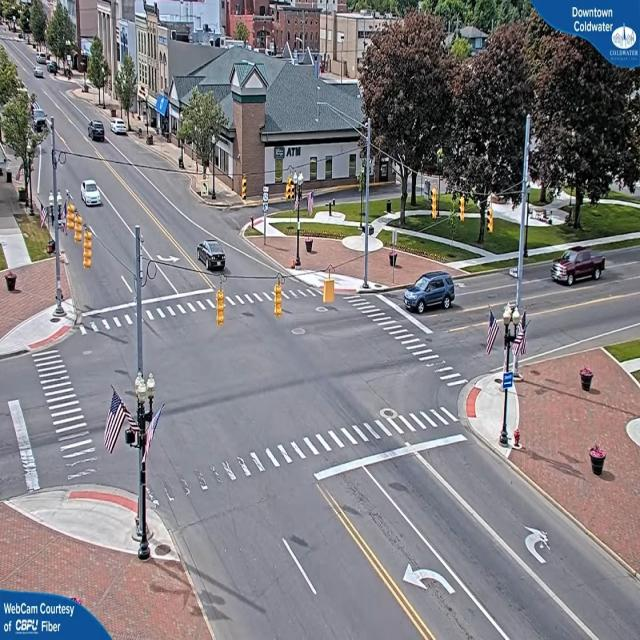car: (550, 244, 607, 286), (404, 271, 456, 313), (195, 241, 226, 274), (80, 181, 102, 209), (88, 121, 106, 143), (111, 119, 129, 136)
